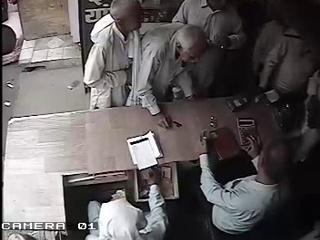Normal: (198, 110, 294, 236), (134, 22, 208, 122), (176, 0, 249, 99), (252, 0, 319, 96), (86, 167, 170, 240), (172, 0, 212, 28)
shoplifting: (83, 0, 144, 111)
